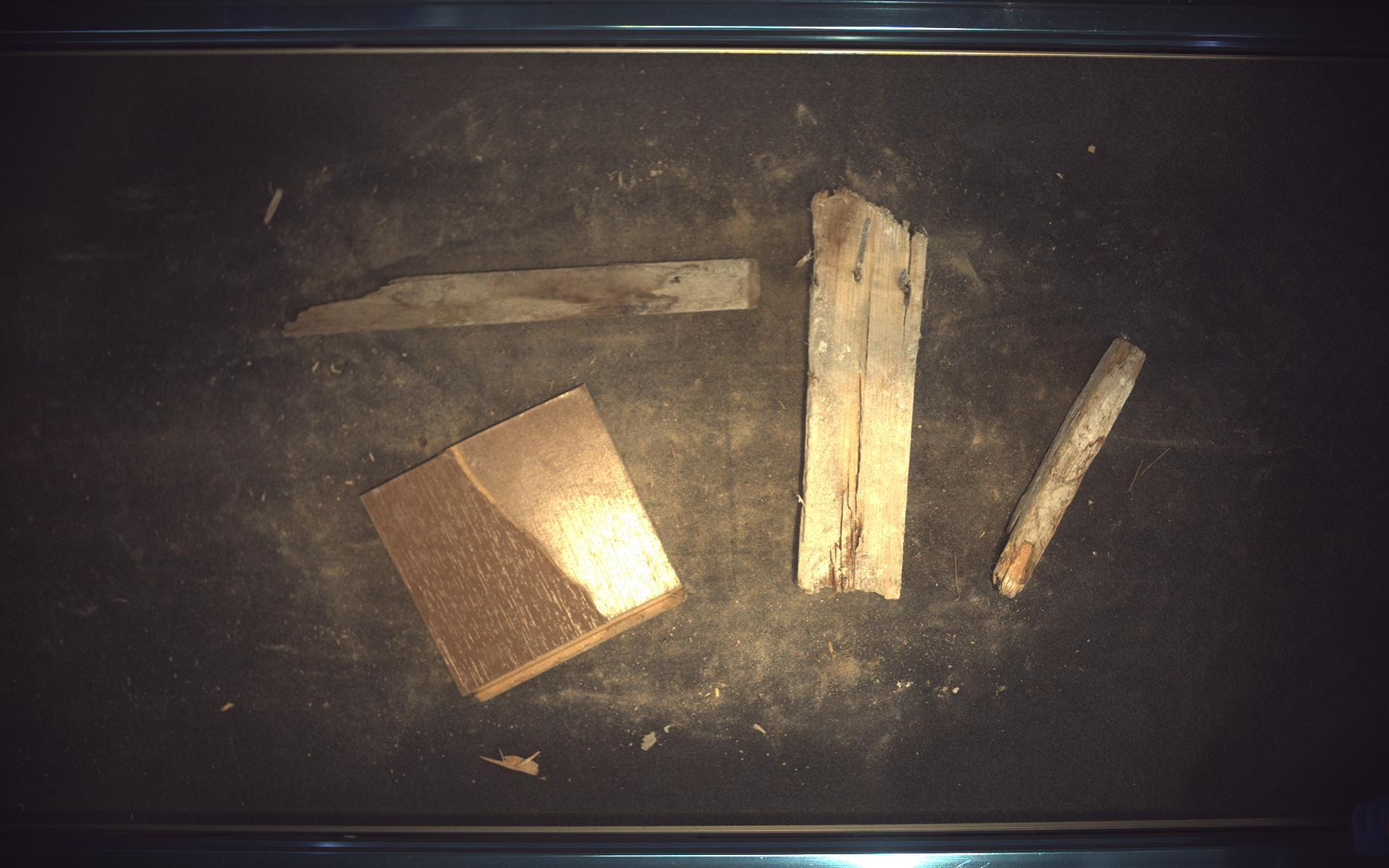wood: (361, 386, 687, 702), (799, 188, 930, 600), (994, 339, 1148, 598), (284, 258, 760, 337)
